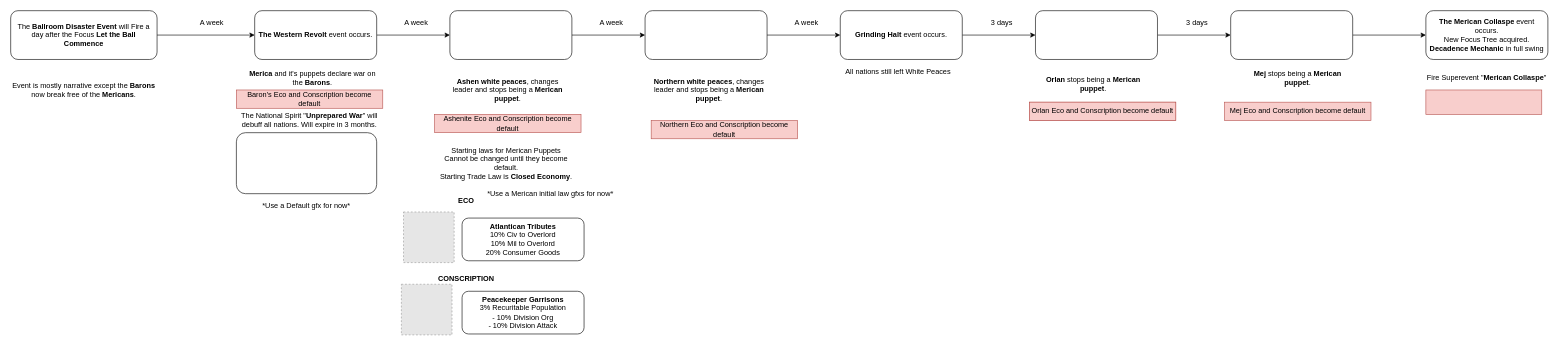
Image size: 1559x346. Some labels were removed from this diagram. Grey dashed boxes stand in for pictures. Each missing label, with the box of its shape:
Contact Lost event occurs.: (1230, 10, 1353, 59)
Merican Eco Law changes to " Collasped Overlordship ": (1425, 89, 1542, 114)
Northern Vox Silence event occurs.: (644, 10, 767, 59)
Orlanite Declaration of Independence event occurs.: (1035, 10, 1157, 59)
The Ashenite Chaos event occurs.: (449, 10, 572, 59)
Unprepared War - 30% Division Speed - 30% Division Attack: (236, 132, 377, 194)
